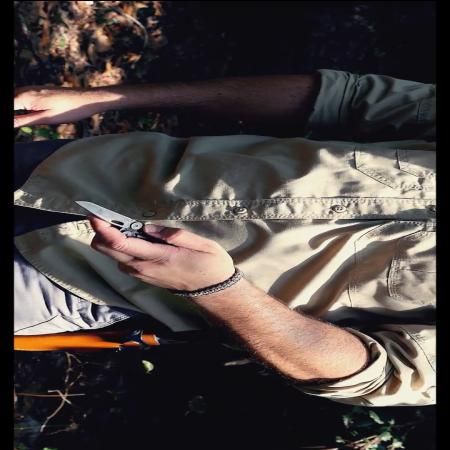long weapon: (61, 192, 184, 272)
